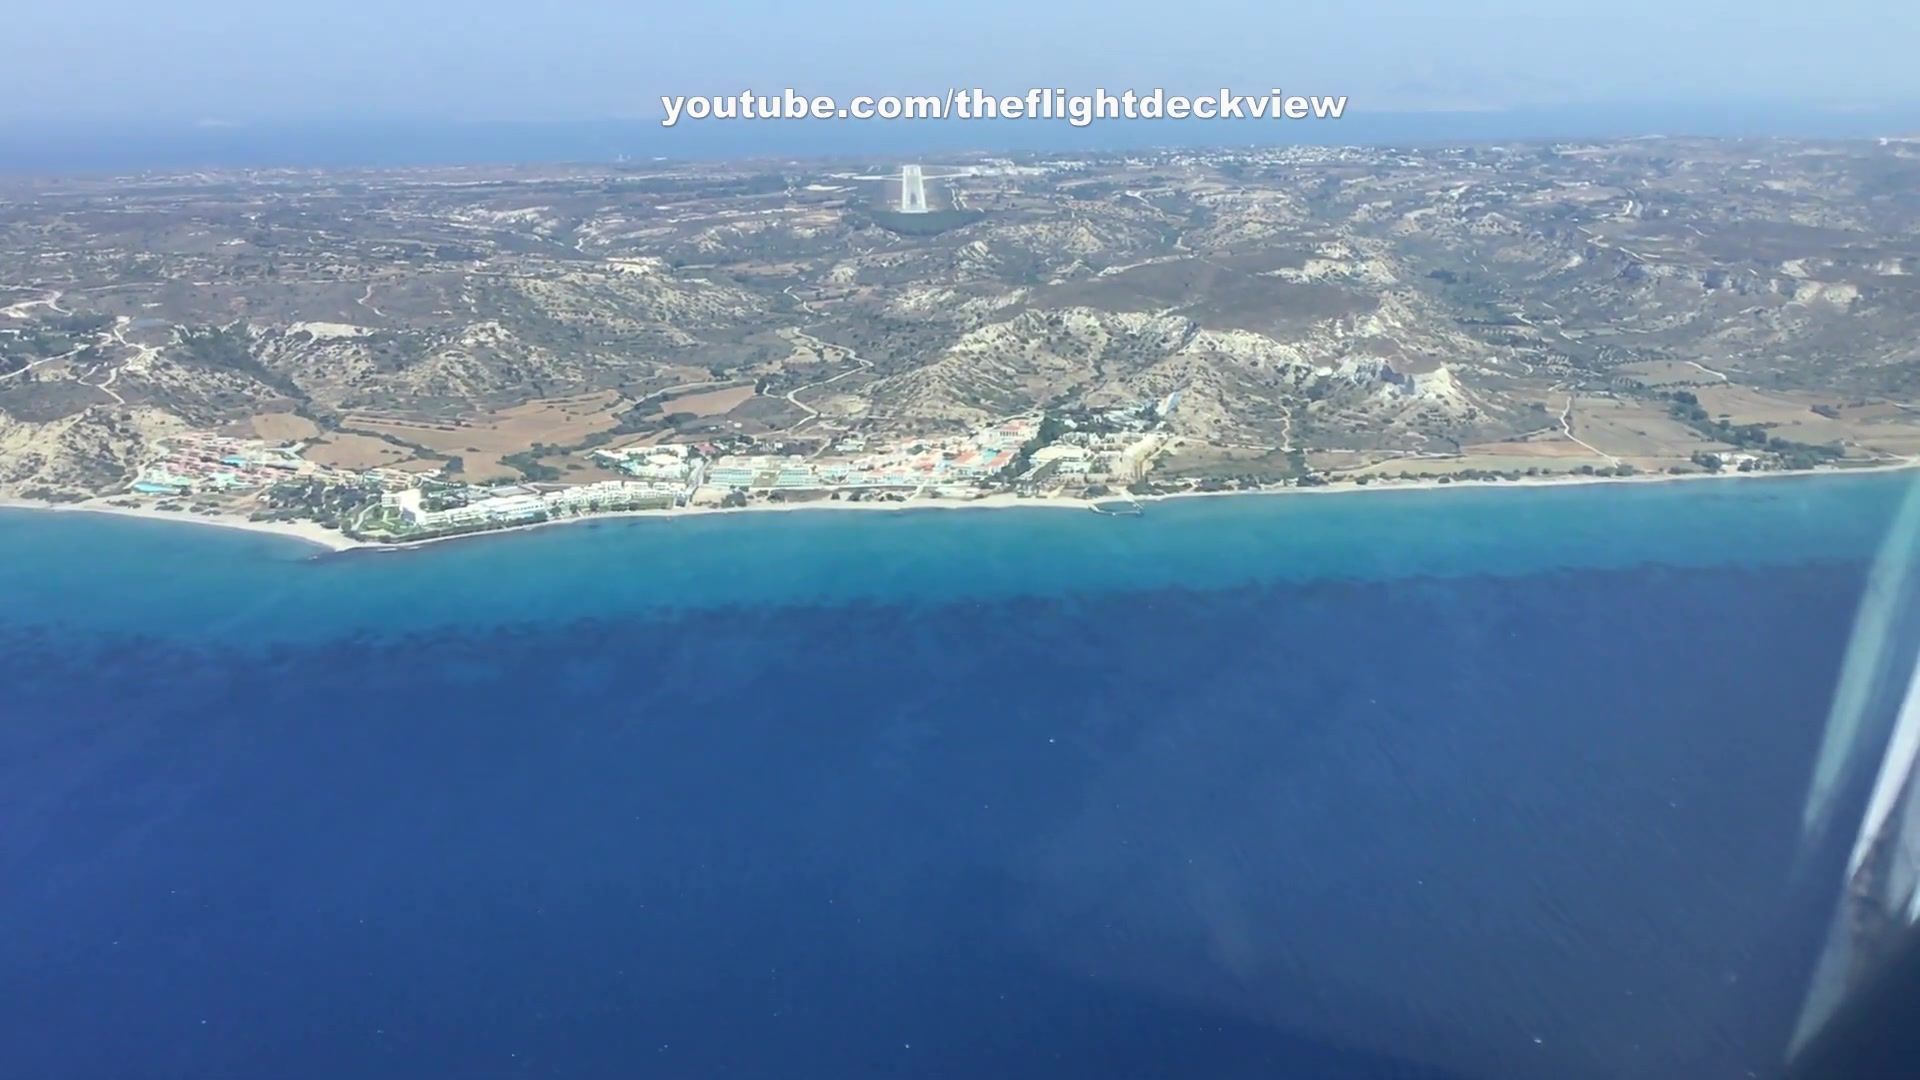runway: (899, 165, 928, 218)
